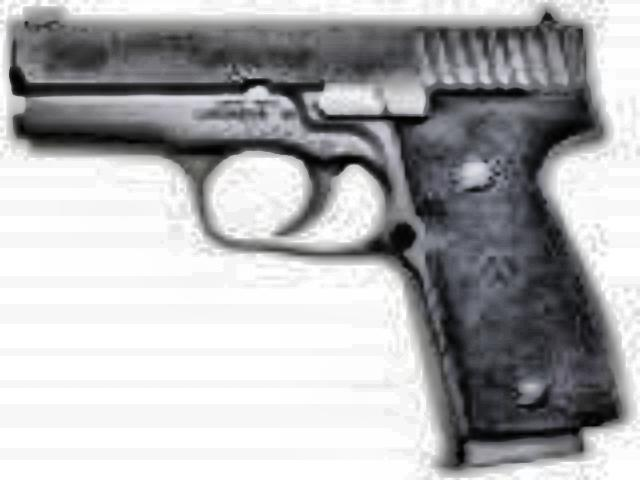pistol: (8, 0, 624, 468)
